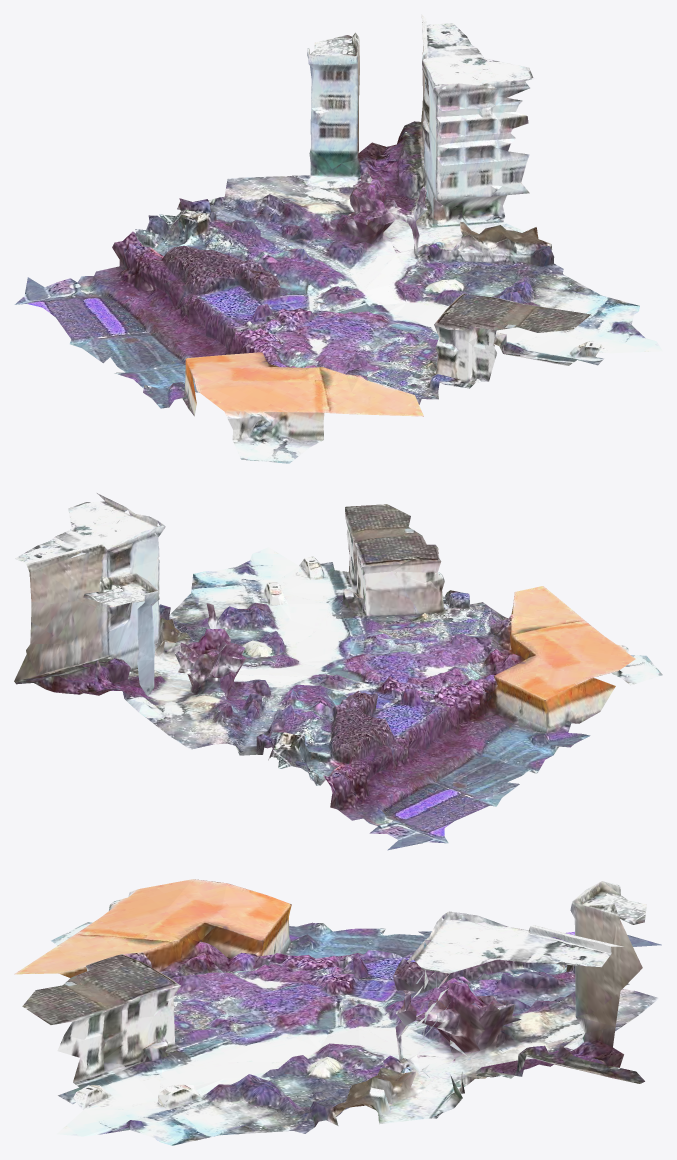
File: Tile_+011_+019_L19_000001.glb
3 views of the same model, one above another, from view 1: azimuth 30°, elevation 25°; view 2: azimuth 150°, elevation 25°; view 3: azimuth 270°, elevation 25° (orthographic). The views are drawn at different scales.
Parts seen in each view (by area): view 1: rtc; view 2: rtc; view 3: rtc.
Part boxes in pixels (box(x1,y1,x2,y2)): rtc: box(14, 14, 662, 463); rtc: box(14, 493, 662, 850); rtc: box(14, 879, 661, 1145).
Bounding box in the file's own units: 57.46 × 23.03 × 61.37.
Materials: 1 (1 with a texture image).
